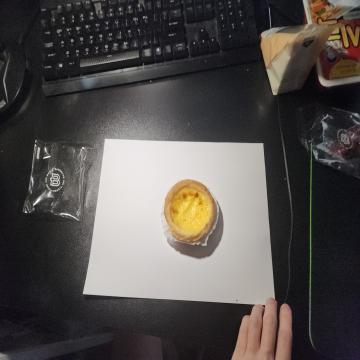EggTart: (162, 178, 217, 244)
